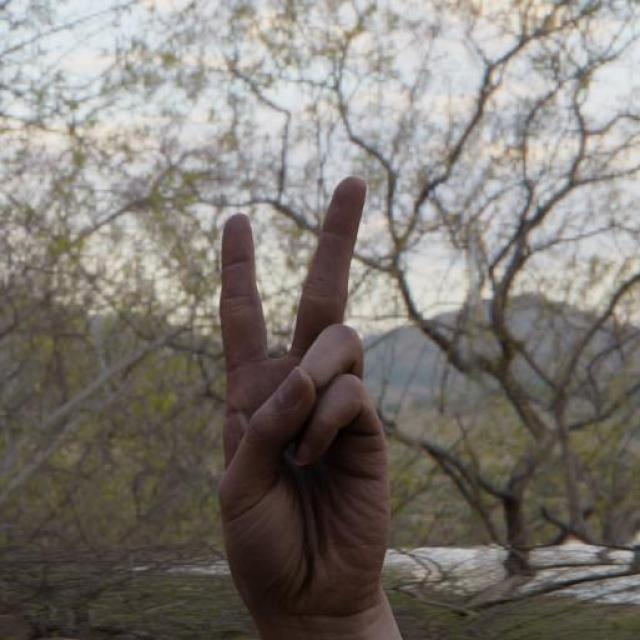V: (202, 167, 398, 624)
